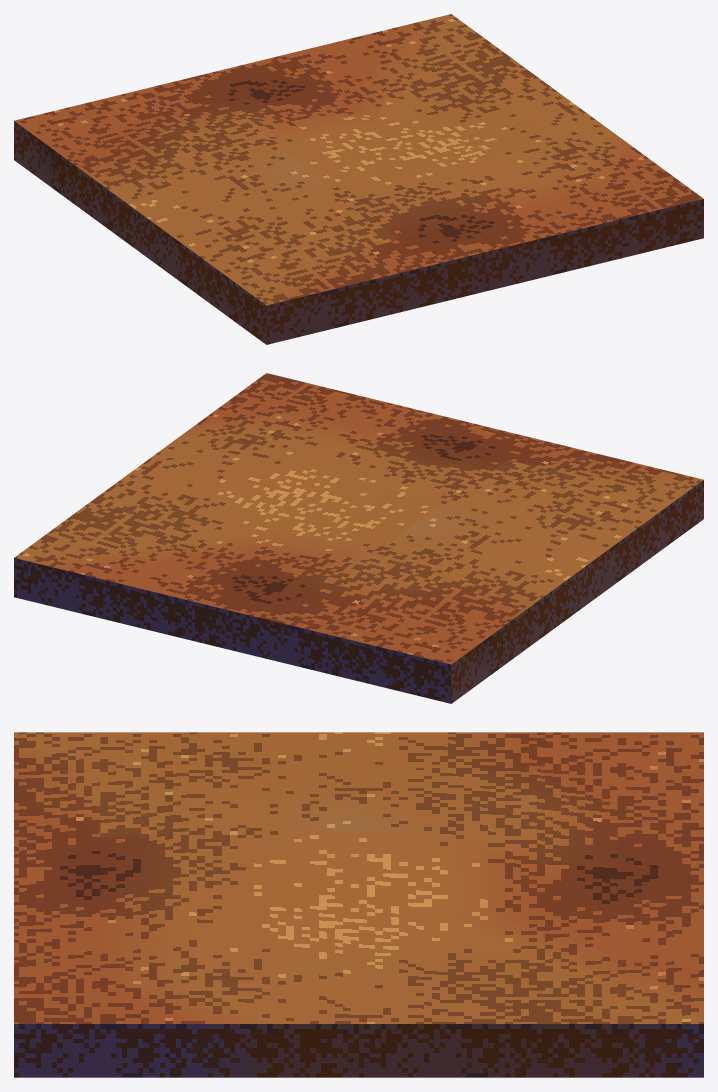
File: planet.ground.glb
3 renders of one model, top to bottom at view 1: azimuth 30°, elevation 25°; view 2: azimuth 150°, elevation 25°; view 3: azimuth 270°, elevation 25°, orthographic. The views are drawn at different scales.
Parts seen in each view (by area): view 1: kit_ground; view 2: kit_ground; view 3: kit_ground.
Boxes of the visible parts, x1,y1,x2,y2 form: kit_ground: (14, 14, 703, 344); kit_ground: (14, 373, 703, 703); kit_ground: (14, 732, 703, 1077).
Size of the model in its own units: 8 by 0.8153 by 8.
2 materials, 2 textured.
